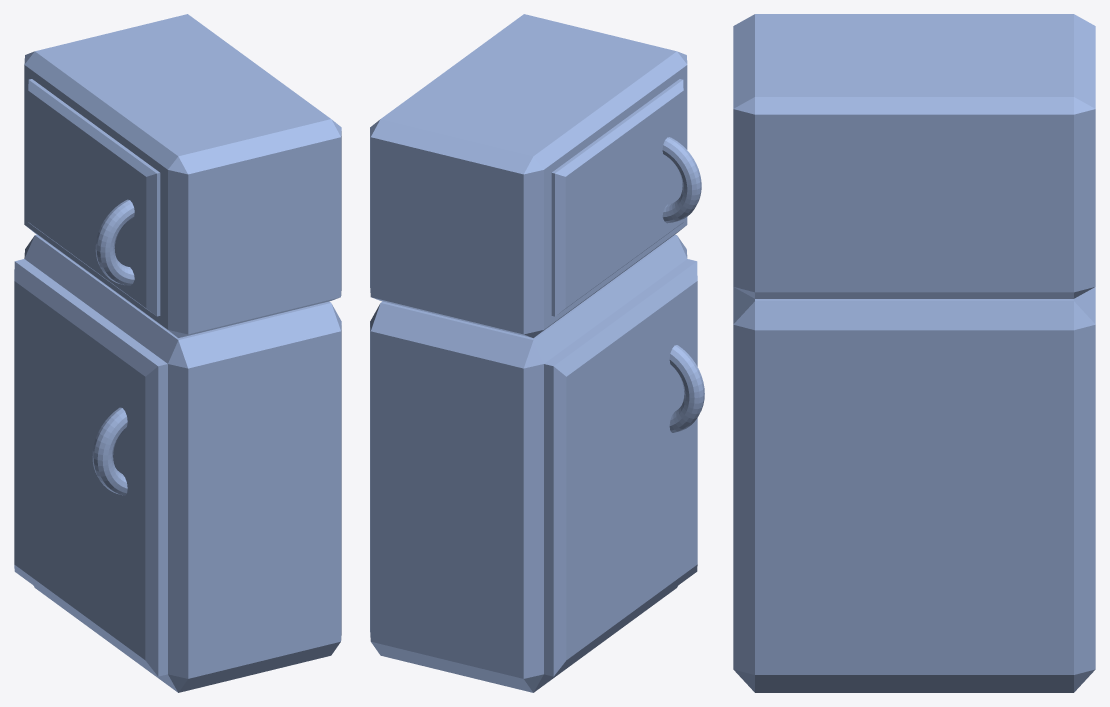
File: Refri.fbx
3 renders of one model, left to right at view 1: azimuth 30°, elevation 25°; view 2: azimuth 150°, elevation 25°; view 3: azimuth 270°, elevation 25°, orthographic. The views are drawn at different scales.
Parts seen in each view (by area): view 1: Torus.001; view 2: Torus.001; view 3: Torus.001.
Part boxes in pixels (box(x1,y1,x2,y2)): Torus.001: box(14, 14, 341, 692); Torus.001: box(370, 14, 704, 692); Torus.001: box(733, 14, 1095, 692).
Size of the model in its own units: 252 by 590 by 325.
